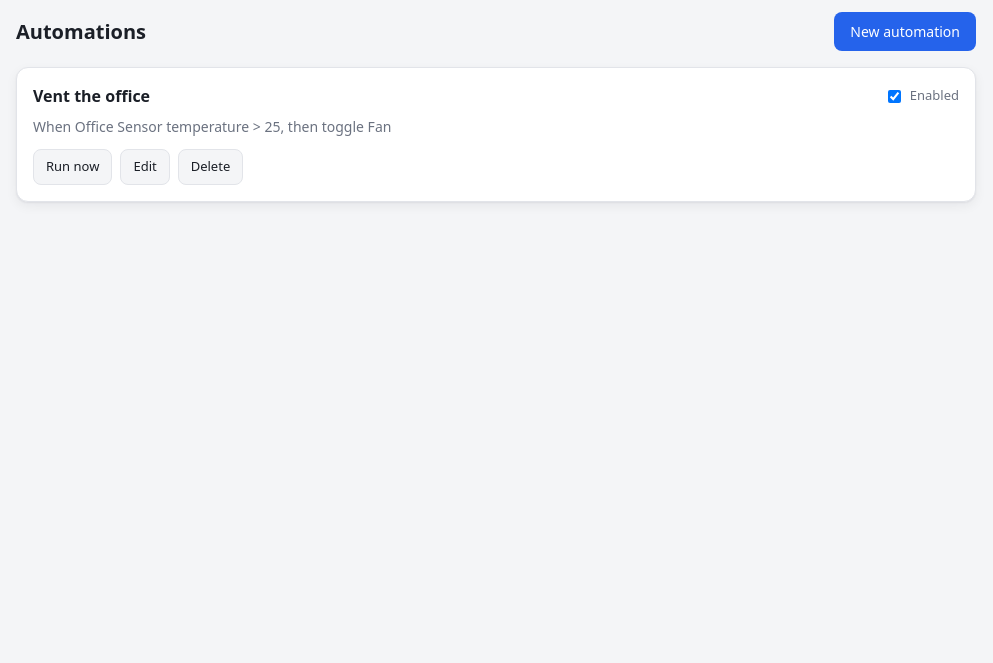
Test: AutomationsPage › opens the builder pre-filled when editing
The width and height of the screenshot is (993, 663).
Expected: the text "Vent the office" is shown, [33, 84, 150, 108]
Step 1. Click the button "Edit" → (145, 167), box [120, 149, 170, 184]
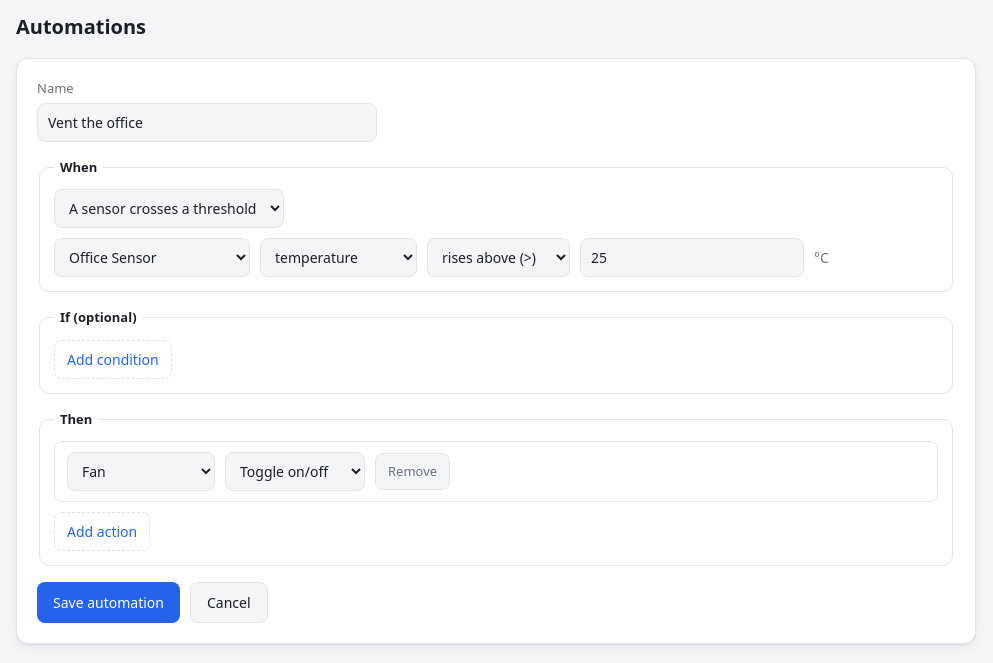
Expected: the field labelled "Name" holds "Vent the office", [37, 102, 377, 142]
Expected: the number field named "Threshold" holds "25", [580, 238, 804, 277]
